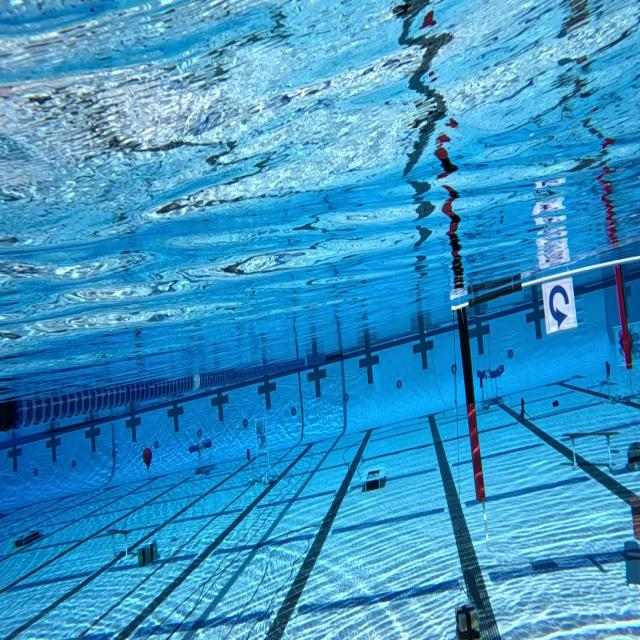blue_side: (540, 273, 576, 333)
